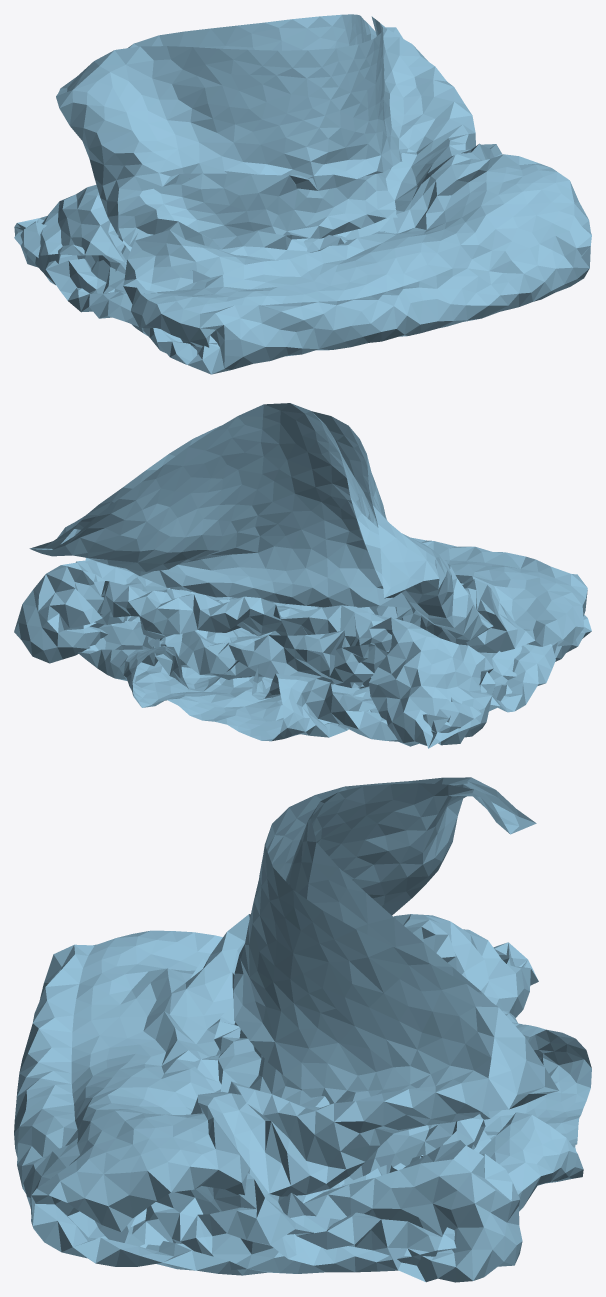
File: frame_19.glb
The picture shows the model from 3 angles, top to bottom: view 1: azimuth 30°, elevation 25°; view 2: azimuth 150°, elevation 25°; view 3: azimuth 270°, elevation 25°; orthographic projection. The views are drawn at different scales.
Parts seen in each view (by area): view 1: frame_19.obj; view 2: frame_19.obj; view 3: frame_19.obj.
Boxes of the visible parts, x1,y1,x2,y2 form: frame_19.obj: (14,14,591,374); frame_19.obj: (14,403,591,748); frame_19.obj: (14,777,591,1282).
Bounding box in the file's own units: 0.9586 × 0.5058 × 0.7745.
